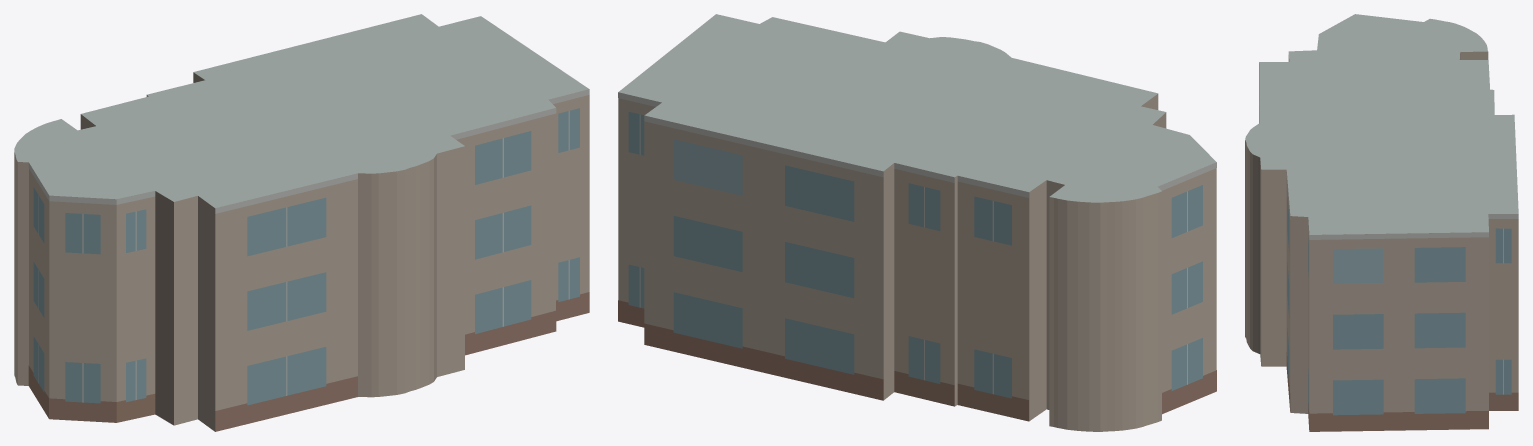
Rendered from survey-upis-32836764.glb.
The picture shows the model from 3 angles, left to right: view 1: azimuth 30°, elevation 25°; view 2: azimuth 150°, elevation 25°; view 3: azimuth 270°, elevation 25°; orthographic projection. The views are drawn at different scales.
Parts seen in each view (by area): view 1: survey-upis-32836764.tmp; view 2: survey-upis-32836764.tmp; view 3: survey-upis-32836764.tmp.
Boxes of the visible parts, left/top/right/bottom form: survey-upis-32836764.tmp: left=14, top=14, right=589, bottom=431; survey-upis-32836764.tmp: left=618, top=14, right=1216, bottom=431; survey-upis-32836764.tmp: left=1245, top=14, right=1518, bottom=431.
Bounding box in the file's own units: 23.11 × 9.6 × 12.09.
